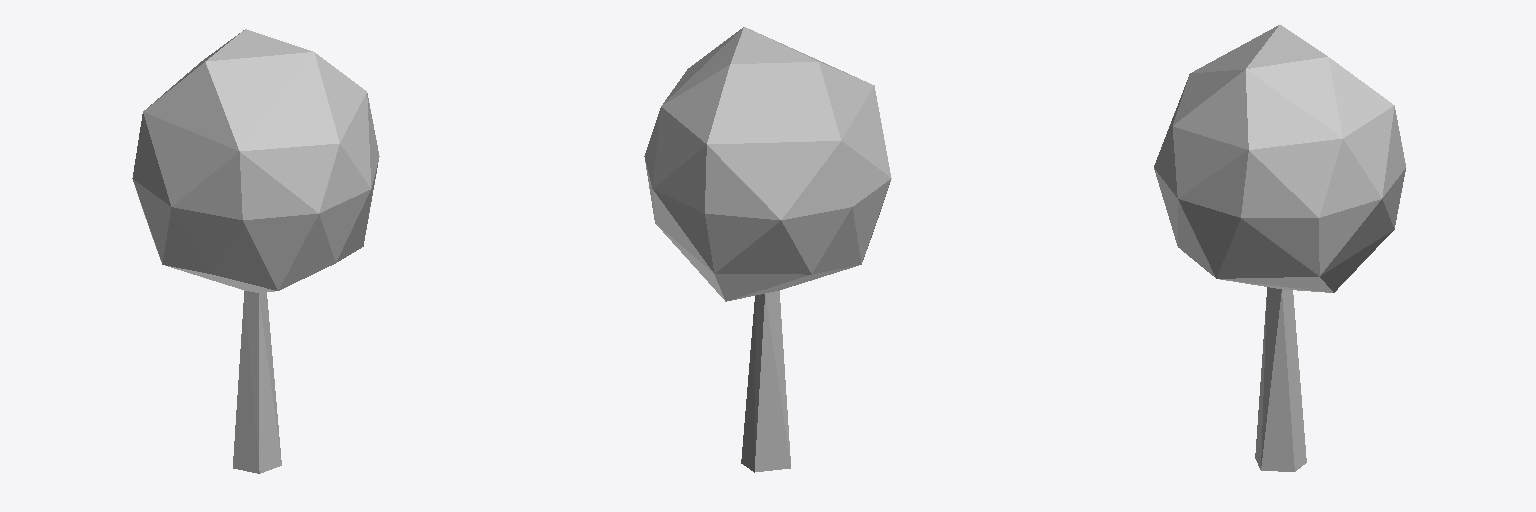
File: Tree3.obj
The picture shows the model from 3 angles: view 1: azimuth 30°, elevation 25°; view 2: azimuth 150°, elevation 25°; view 3: azimuth 270°, elevation 25°; orthographic projection.
Parts seen in each view (by area): view 1: Cylinder; view 2: Cylinder; view 3: Cylinder.
Part boxes in pixels (x1,y1,x2,y2): Cylinder: (132,29,379,473); Cylinder: (644,27,891,472); Cylinder: (1154,25,1405,471).
Bounding box in the file's own units: 15.93 × 30.24 × 16.75.